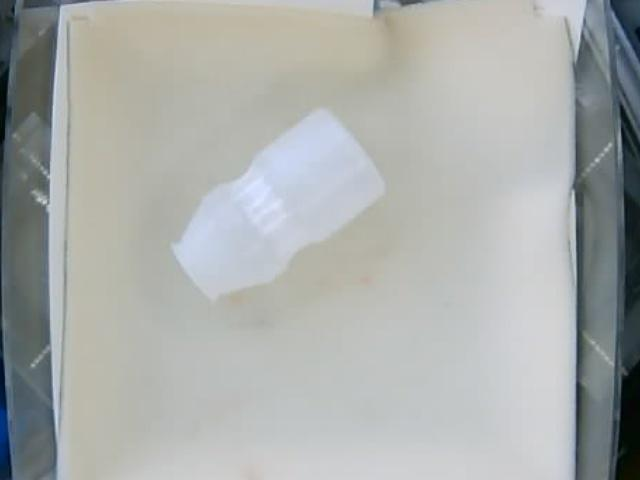Bottle: (169, 107, 387, 302)
